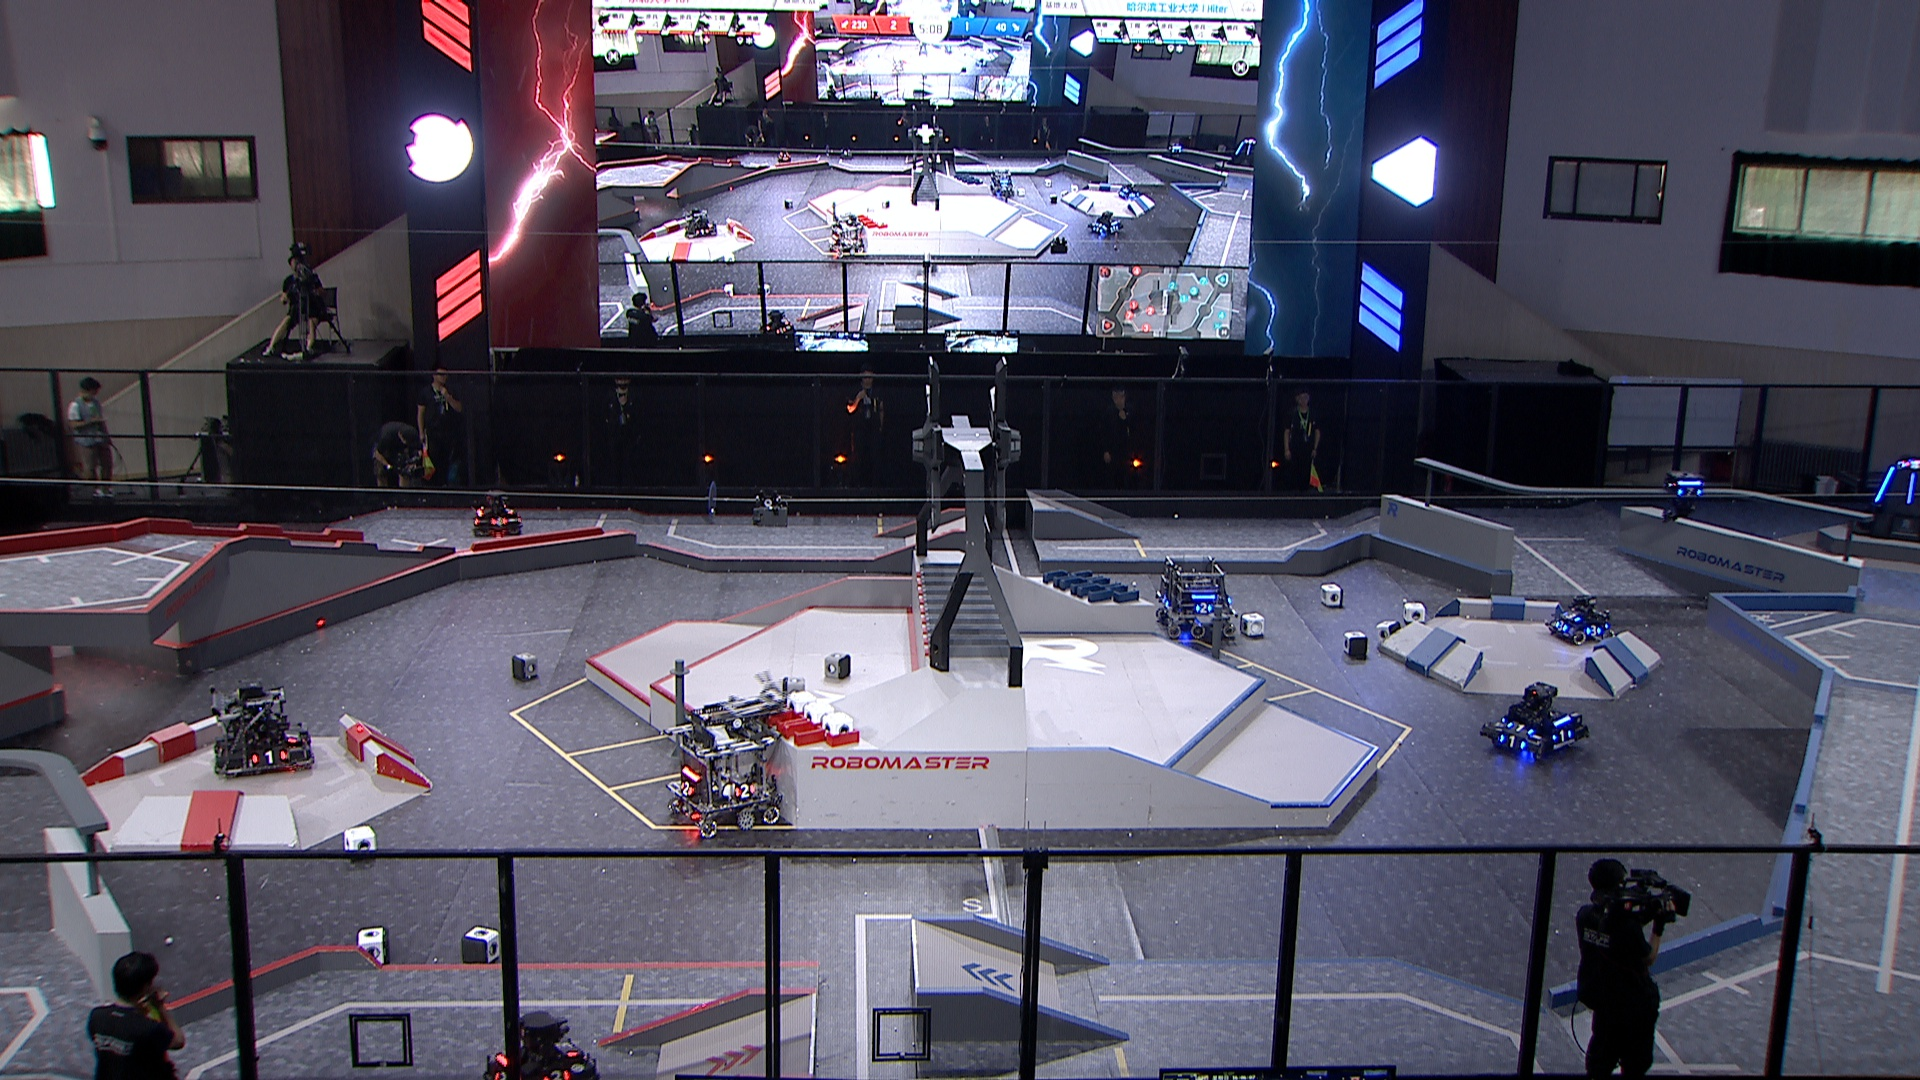armor: (1873, 465, 1896, 504), (1501, 731, 1527, 754), (248, 746, 286, 761), (555, 1035, 578, 1054), (1905, 469, 1917, 501), (282, 727, 301, 745), (301, 731, 314, 756), (1510, 721, 1531, 736), (1552, 731, 1572, 745), (735, 783, 756, 796), (542, 1071, 568, 1080), (1677, 488, 1700, 498), (679, 781, 694, 796), (1564, 608, 1580, 622), (1586, 624, 1604, 637), (1552, 617, 1567, 632), (1195, 603, 1211, 615), (491, 517, 508, 527), (491, 1071, 508, 1080), (501, 502, 513, 514)
base: (1851, 447, 1920, 542)
car: (661, 698, 785, 832), (207, 678, 320, 774), (1481, 680, 1590, 764), (481, 1007, 603, 1080), (1153, 551, 1238, 642), (1543, 591, 1618, 647), (469, 489, 524, 541)
ignore: (825, 215, 869, 258), (1087, 207, 1125, 243), (984, 164, 1019, 199), (1222, 135, 1257, 167), (683, 214, 717, 240), (1116, 179, 1141, 204), (1164, 138, 1185, 161), (775, 145, 796, 164), (1902, 456, 1920, 469)
watcher: (1658, 467, 1702, 520)
